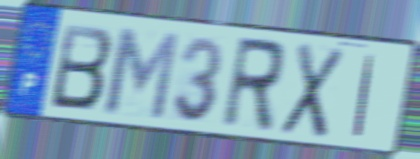3: (172, 34, 226, 125)
B: (48, 20, 115, 112)
I: (350, 52, 377, 140)
M: (102, 24, 182, 124)
R: (218, 34, 288, 136)
X: (278, 39, 347, 142)
